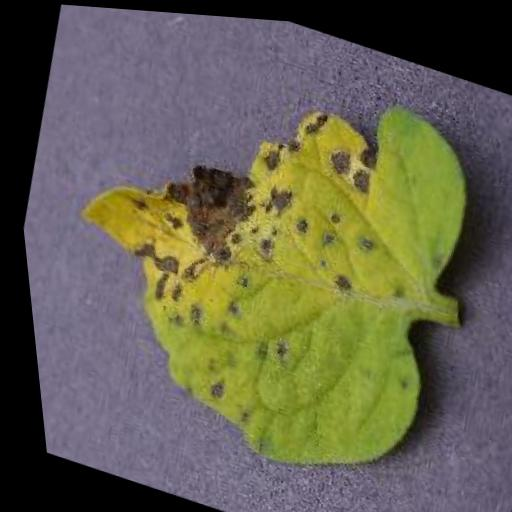Septoria: (8, 5, 507, 510)
